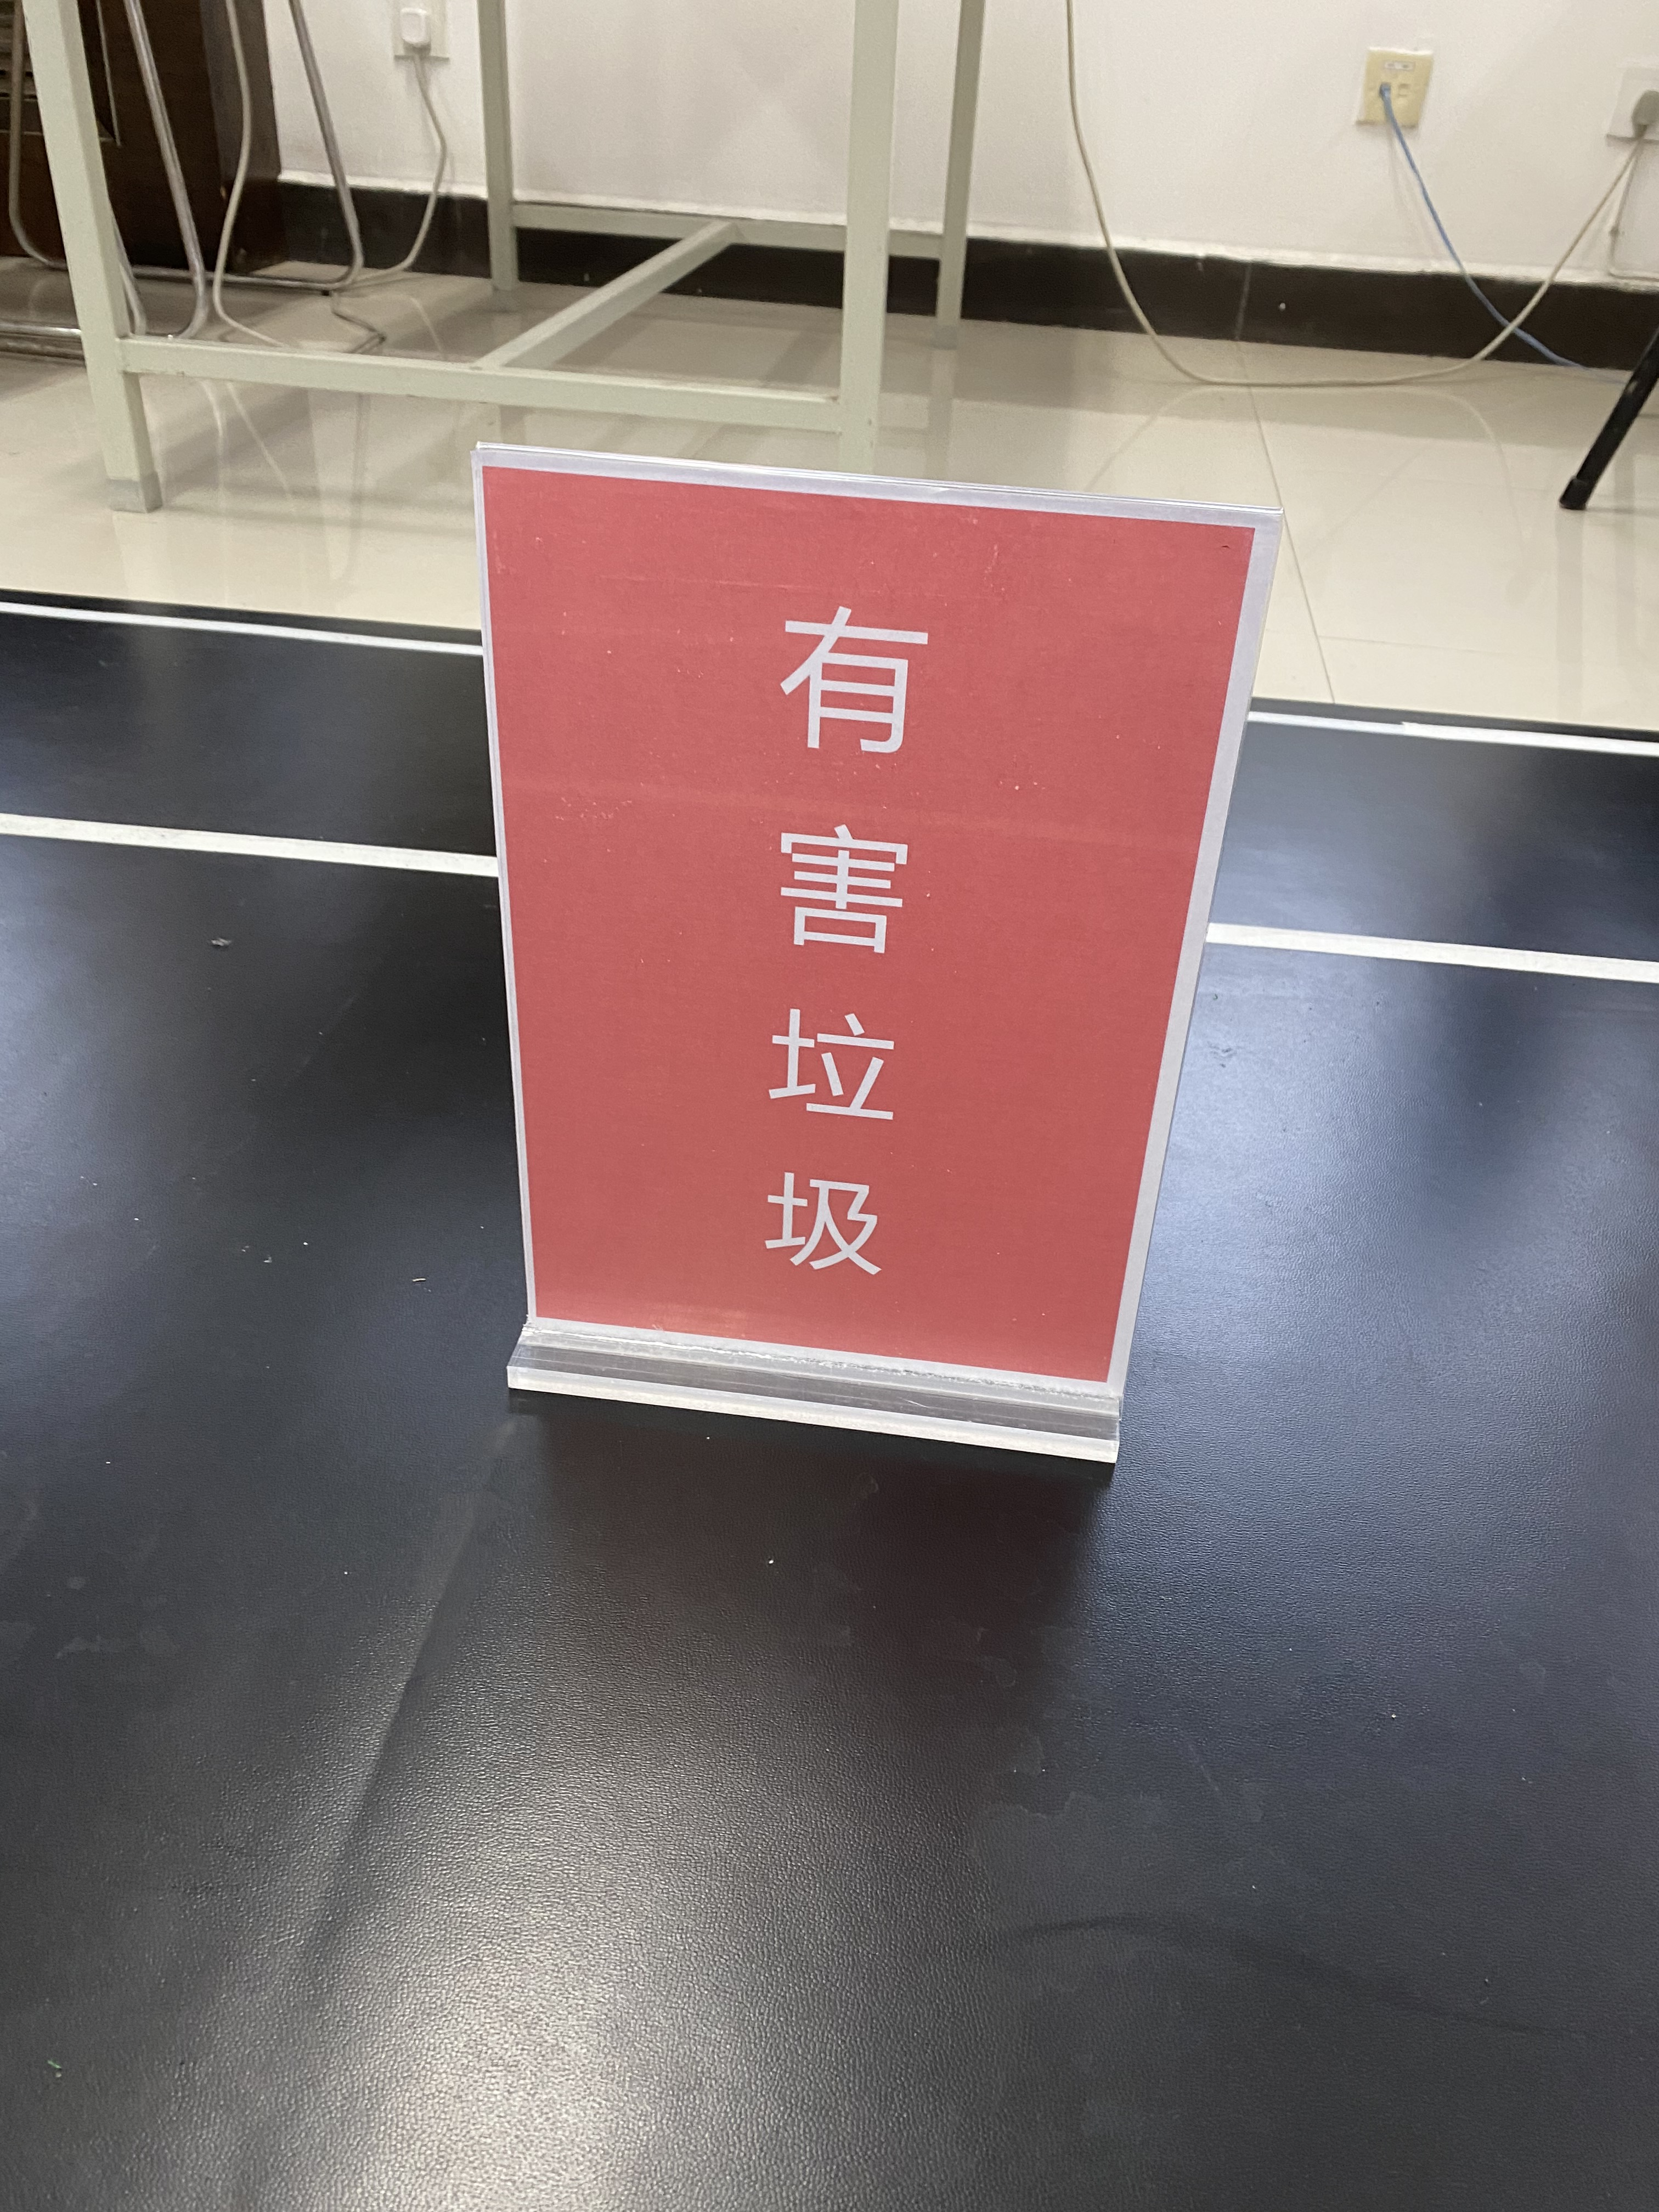red: (580, 524, 1101, 1317)
